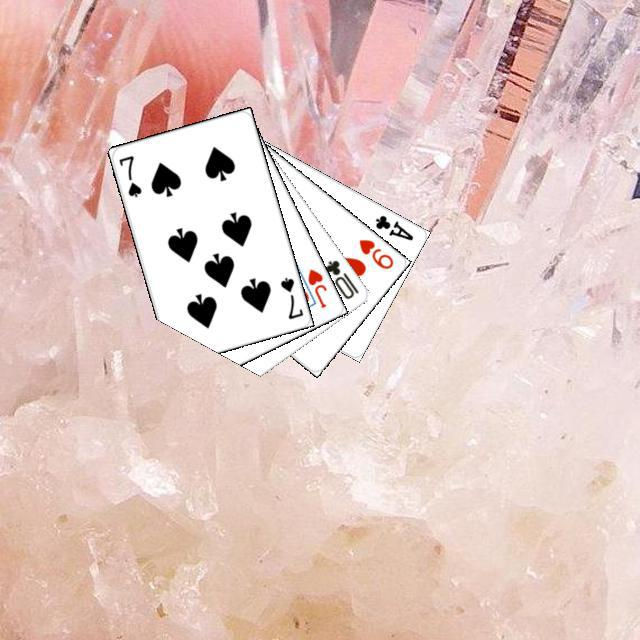10c: (321, 255, 360, 301)
7s: (275, 272, 305, 321), (114, 150, 143, 199)
9h: (354, 234, 395, 271)
Ac: (370, 210, 415, 243)
Jh: (303, 264, 328, 310)
